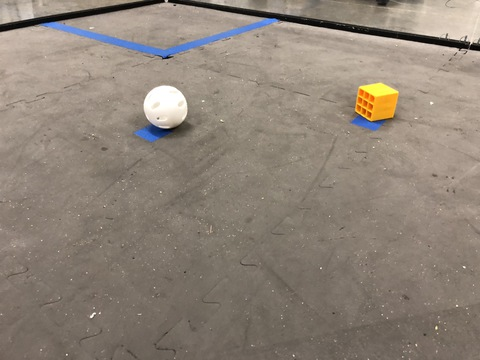ball: (138, 82, 207, 142)
block: (347, 83, 407, 129)
